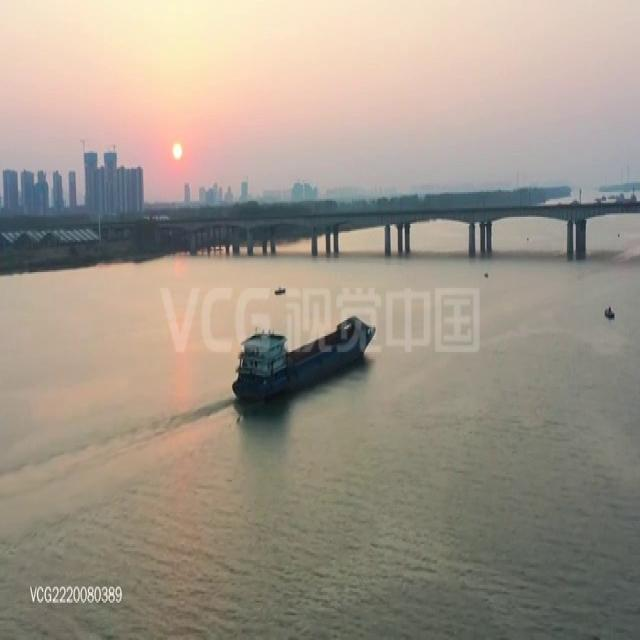cargoship: (242, 314, 372, 412)
